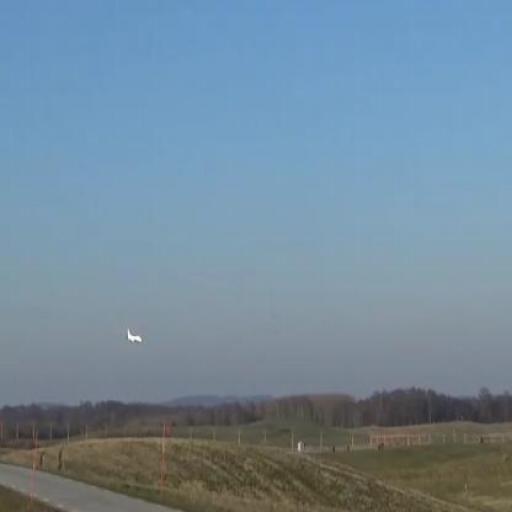aircraft: (127, 328, 143, 343)
